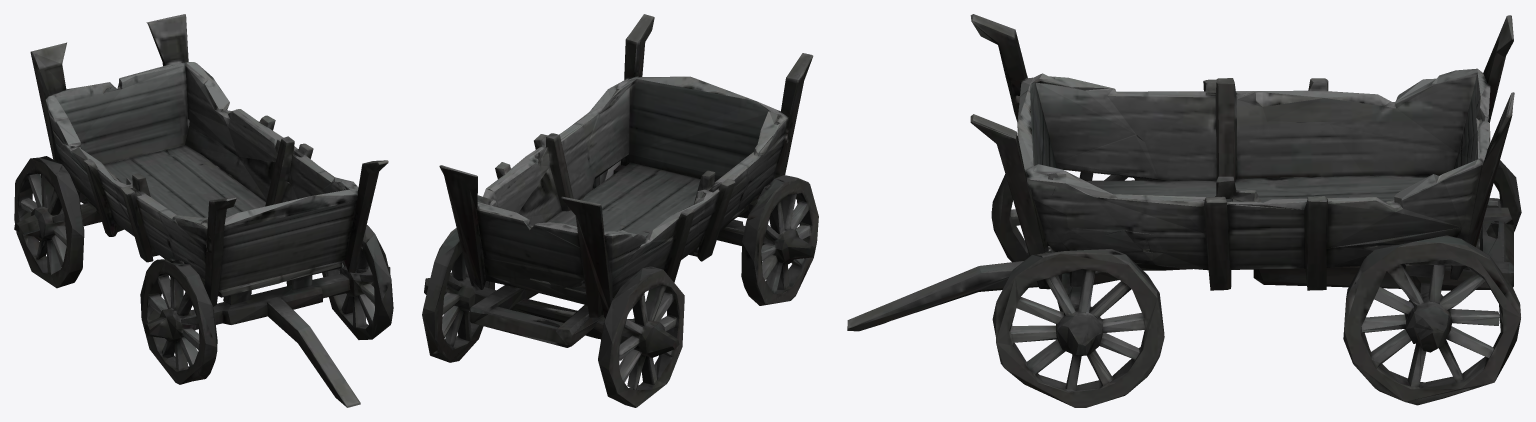
Rendered from bog_cart_01.glb.
The picture shows the model from 3 angles, left to right: view 1: azimuth 30°, elevation 25°; view 2: azimuth 150°, elevation 25°; view 3: azimuth 270°, elevation 25°; orthographic projection. The views are drawn at different scales.
Parts seen in each view (by area): view 1: geometry_0; view 2: geometry_0; view 3: geometry_0.
Boxes of the visible parts, box(x1,y1,x2,y2) form: geometry_0: box(14, 14, 393, 407); geometry_0: box(422, 14, 818, 407); geometry_0: box(847, 14, 1521, 407).
Bounding box in the file's own units: 0.5606 × 0.458 × 0.9982.
Materials: 1 (1 with a texture image).
